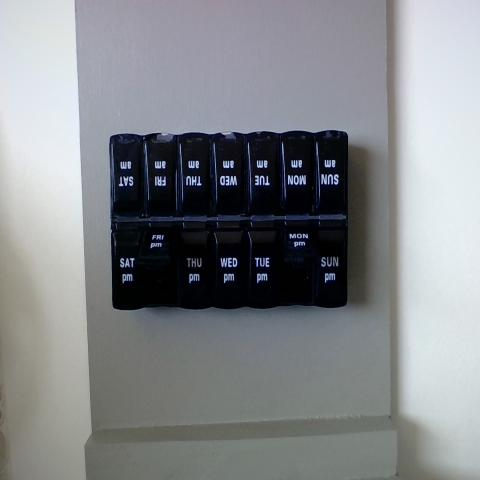FRI-am: (144, 137, 181, 215)
MON-am: (284, 132, 316, 212)
Open: (146, 264, 182, 303), (285, 261, 314, 300)
PillBox: (91, 114, 375, 336)
SAT-am: (114, 137, 146, 216)
SAT-pm: (116, 222, 152, 305)
SUN-am: (316, 131, 349, 213)
SUN-pm: (314, 216, 346, 304)
THU-am: (182, 134, 210, 213)
THU-pm: (184, 216, 220, 305)
TUE-am: (249, 134, 284, 214)
TUE-pm: (251, 224, 282, 304)
WED-am: (216, 134, 248, 216)
WED-pm: (216, 223, 248, 305)
